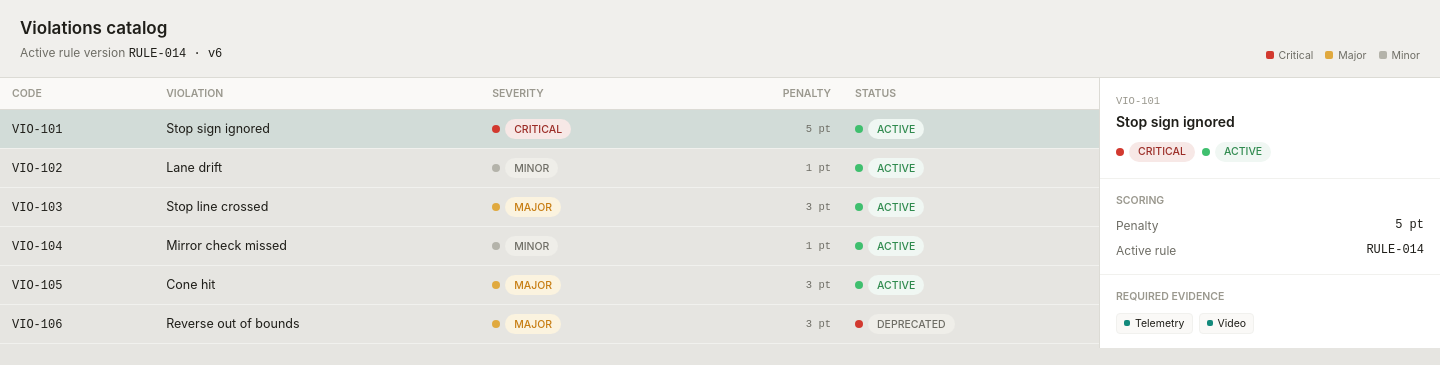
Test case: ViolationsScreen › opens detail with scoring and required evidence chips
The image size is (1440, 365).
Click the button "VIO-103" at (37, 208), box [12,200,62,217]
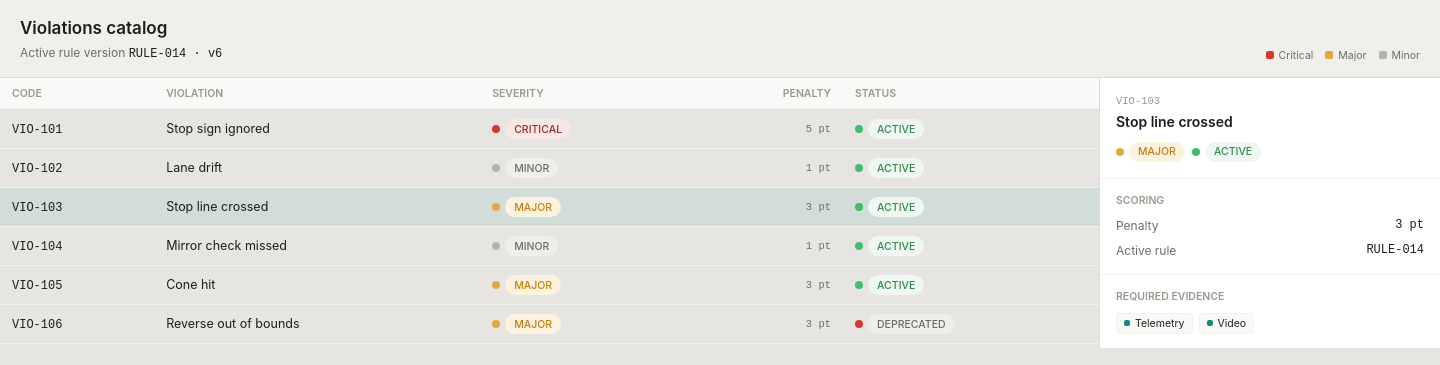
expect the text "Scoring" is shown: met, box [1116,194,1164,206]
expect the text "Stop line crossed" is shown: met, box [1116,113,1233,130]
